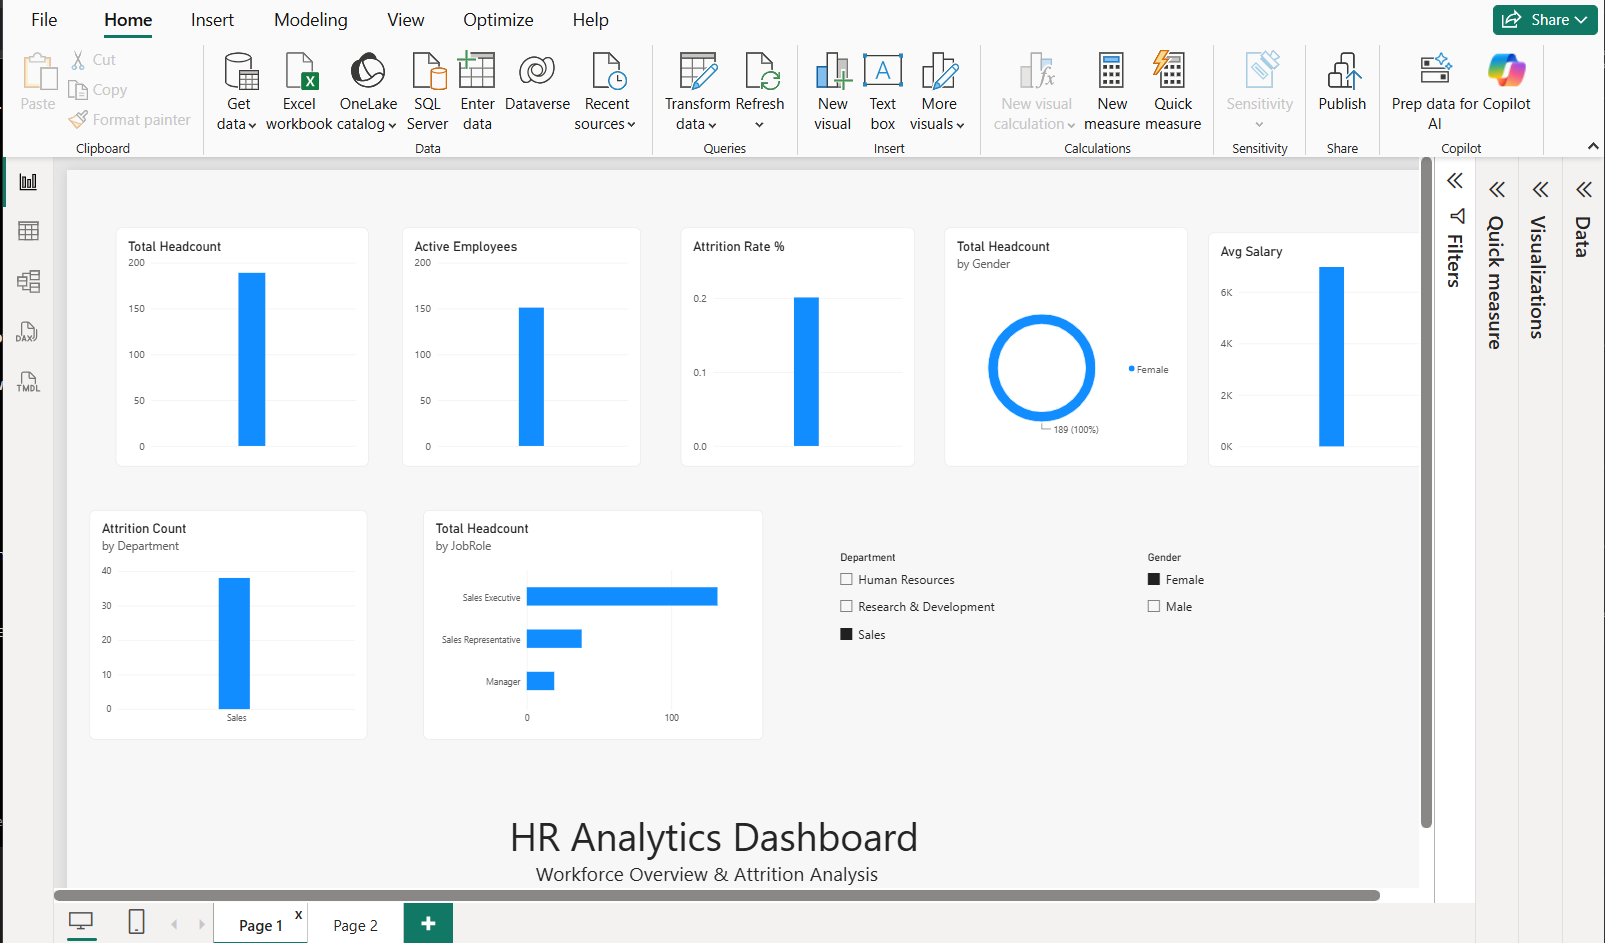

The dashboard page shown, as its layout file describes it:
{"tool":"powerbi","page":{"name":"Page 1","canvas":[1920,1080],"ordinal":0},"visuals":[{"type":"clusteredColumnChart","fields":{"Y":["data.Active Employees"]},"box":[462.6,79.2,329.5,329.5],"z":0},{"type":"clusteredColumnChart","fields":{"Y":["data.Attrition Rate %"]},"box":[845.9,79.2,323.2,329.5],"z":1000},{"type":"clusteredColumnChart","fields":{"Y":["data.Avg Salary"]},"box":[1574.7,85.5,320,323.2],"z":2000},{"type":"columnChart","fields":{"Y":["data.Total Headcount"]},"box":[66.5,79.2,348.5,329.5],"z":3000},{"type":"clusteredColumnChart","fields":{"Category":["data.Department"],"Y":["data.Attrition Count"]},"box":[31.7,468.9,383.4,316.8],"z":4000},{"type":"donutChart","fields":{"Category":["data.Gender"],"Y":["data.Total Headcount"]},"box":[1210.3,79.2,335.8,329.5],"z":5000},{"type":"clusteredBarChart","fields":{"Category":["data.JobRole"],"Y":["data.Total Headcount"]},"box":[491.1,468.9,468.9,316.8],"z":6000},{"type":"slicer","fields":{"Values":["data.Department"]},"box":[1058.2,525.9,364.4,294.7],"z":7000},{"type":"slicer","fields":{"Values":["data.Gender"]},"box":[1482.8,525.9,377,294.7],"z":8000},{"type":"textbox","box":[67,627.5,314,215],"z":9000},{"type":"textbox","box":[25.3,880.8,1695,142.6],"z":9001}]}

Visuals, with their boxes on the page's 1920x1080 design canvas (x1, y1, x2, y2). These are canvas units, not pixel positions in the 1605x943 screenshot, which may show the page scaled, cropped or inside an application window:
clusteredColumnChart - data.Active Employees: left=463, top=79, right=792, bottom=409
clusteredColumnChart - data.Attrition Rate %: left=846, top=79, right=1169, bottom=409
clusteredColumnChart - data.Avg Salary: left=1575, top=86, right=1895, bottom=409
columnChart - data.Total Headcount: left=66, top=79, right=415, bottom=409
clusteredColumnChart - data.Department x data.Attrition Count: left=32, top=469, right=415, bottom=786
donutChart - data.Gender x data.Total Headcount: left=1210, top=79, right=1546, bottom=409
clusteredBarChart - data.JobRole x data.Total Headcount: left=491, top=469, right=960, bottom=786
slicer - data.Department: left=1058, top=526, right=1423, bottom=821
slicer - data.Gender: left=1483, top=526, right=1860, bottom=821
textbox: left=67, top=628, right=381, bottom=842
textbox: left=25, top=881, right=1720, bottom=1023
